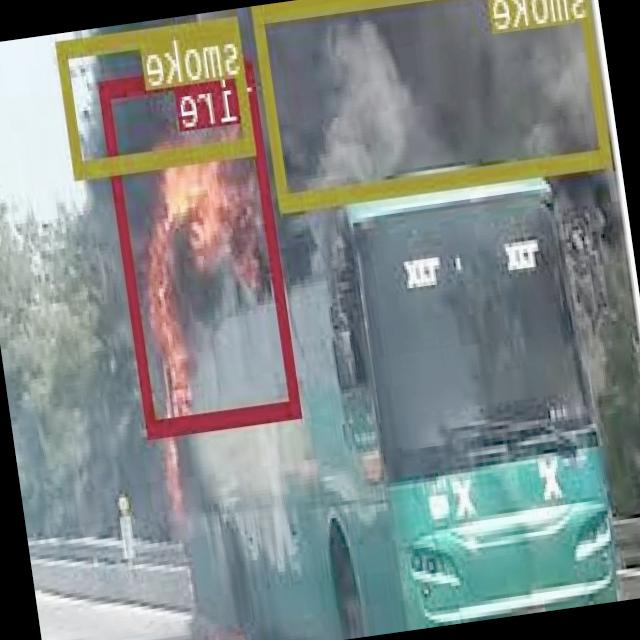fire: (100, 58, 304, 436)
smoke: (254, 0, 613, 206), (58, 12, 256, 174)
